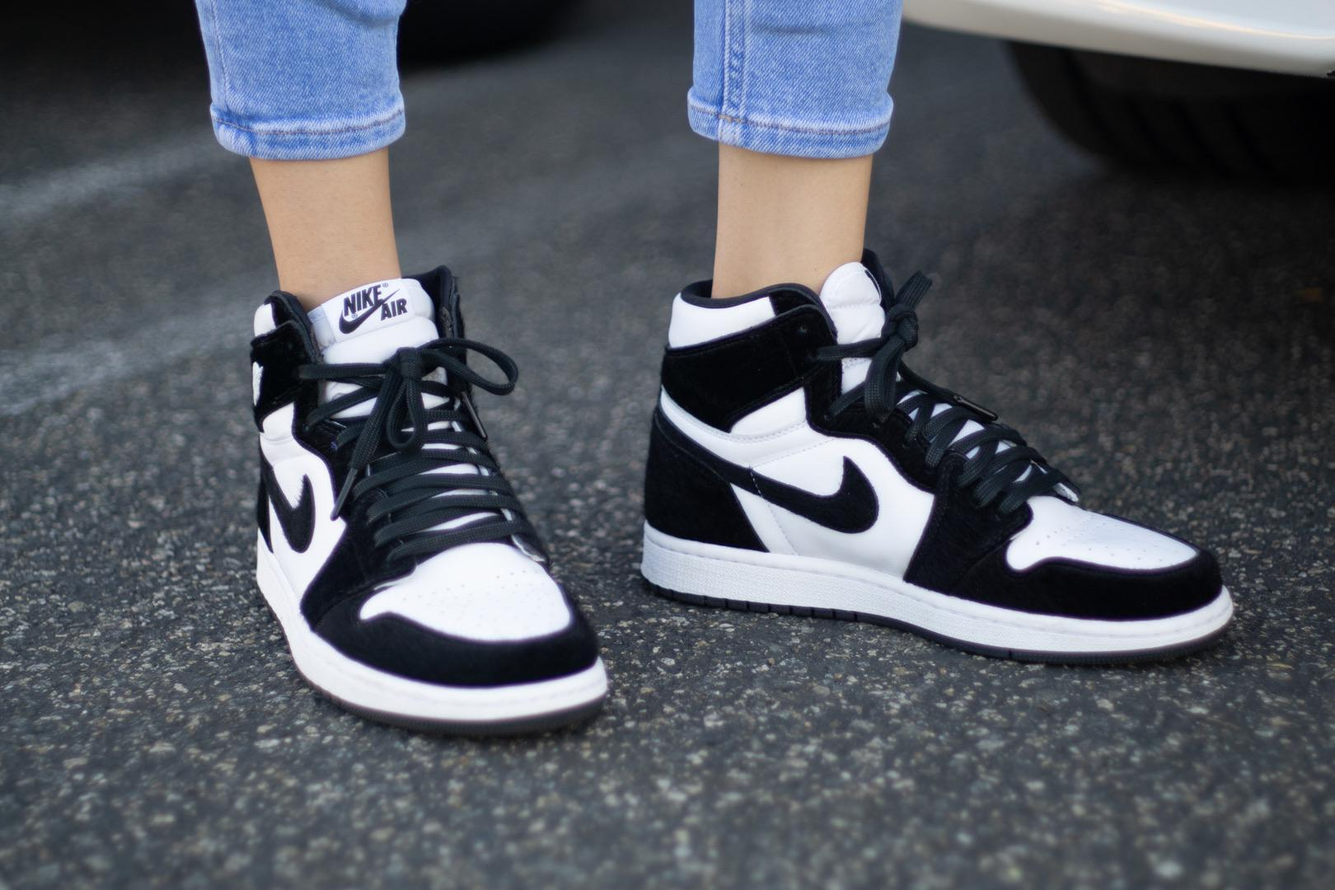sneaker: (616, 237, 1269, 678), (224, 245, 631, 801)
